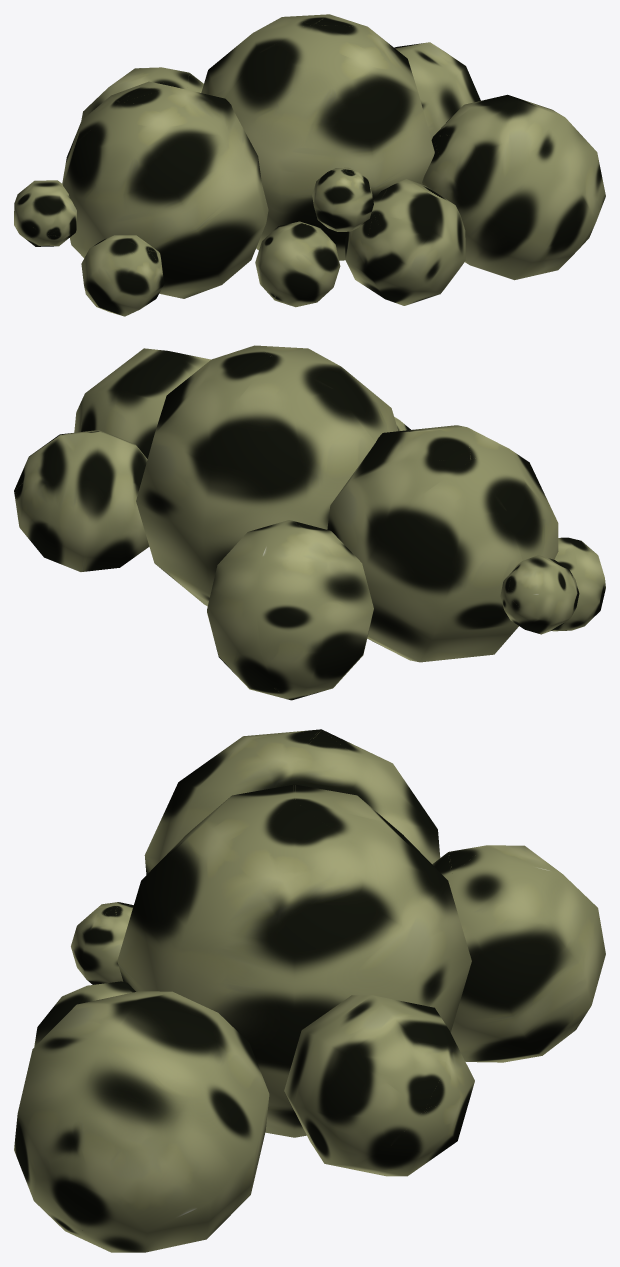
Rendered from fungal_cluster_1.fbx.
3 renders of one model, top to bottom at view 1: azimuth 30°, elevation 25°; view 2: azimuth 150°, elevation 25°; view 3: azimuth 270°, elevation 25°, orthographic. The views are drawn at different scales.
Visible parts, largest first — view 1: fungal_cluster_1; view 2: fungal_cluster_1; view 3: fungal_cluster_1.
Boxes of the visible parts, bbox=[...] form: fungal_cluster_1: bbox=[14, 14, 605, 316]; fungal_cluster_1: bbox=[14, 345, 605, 700]; fungal_cluster_1: bbox=[14, 729, 605, 1252].
Size of the model in its own units: 449 by 208 by 324.
1 material, 1 textured.
